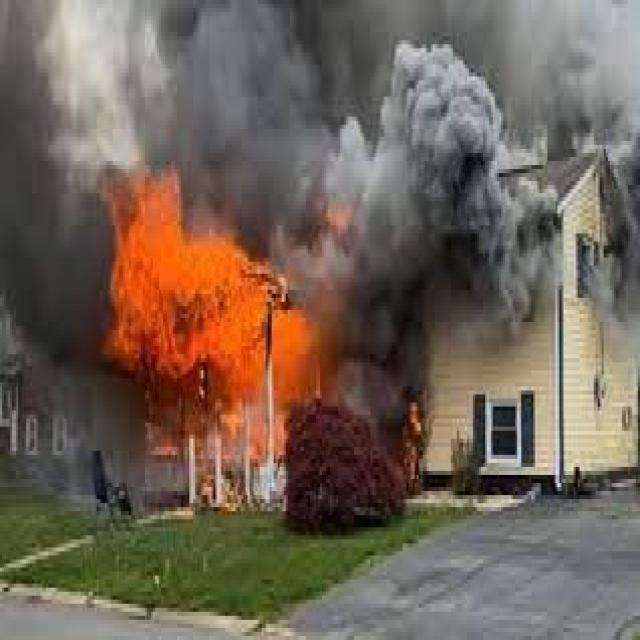fire: (83, 167, 342, 433)
